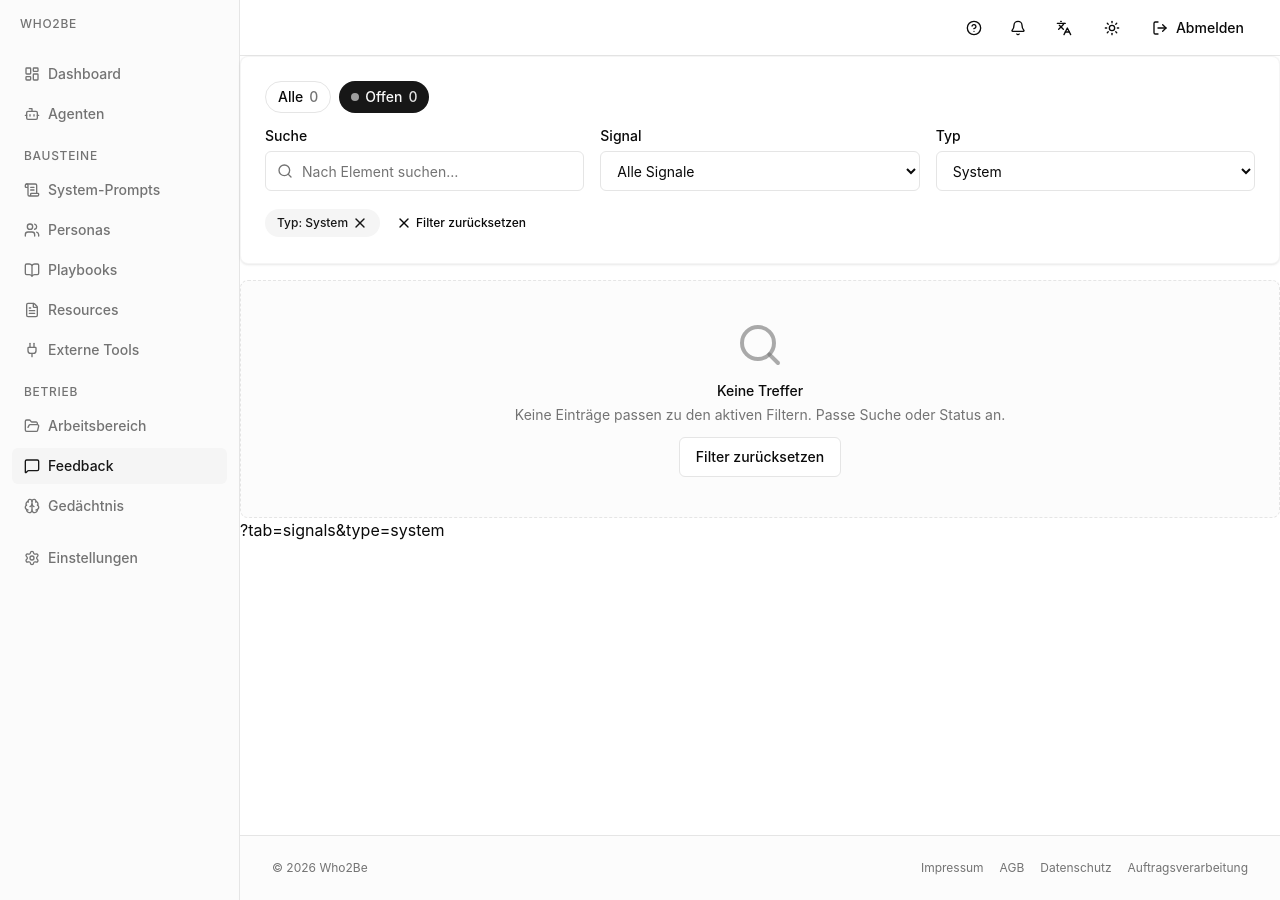
Scenario: FeedbackInbox › setzt im gefilterten Leerzustand alle Filter zurück
Expected: the text "Keine Treffer" is shown, [717,382,803,399]
Click the button "Filter zurücksetzen" below "Keine Treffer": (760, 457) [679,437,841,477]
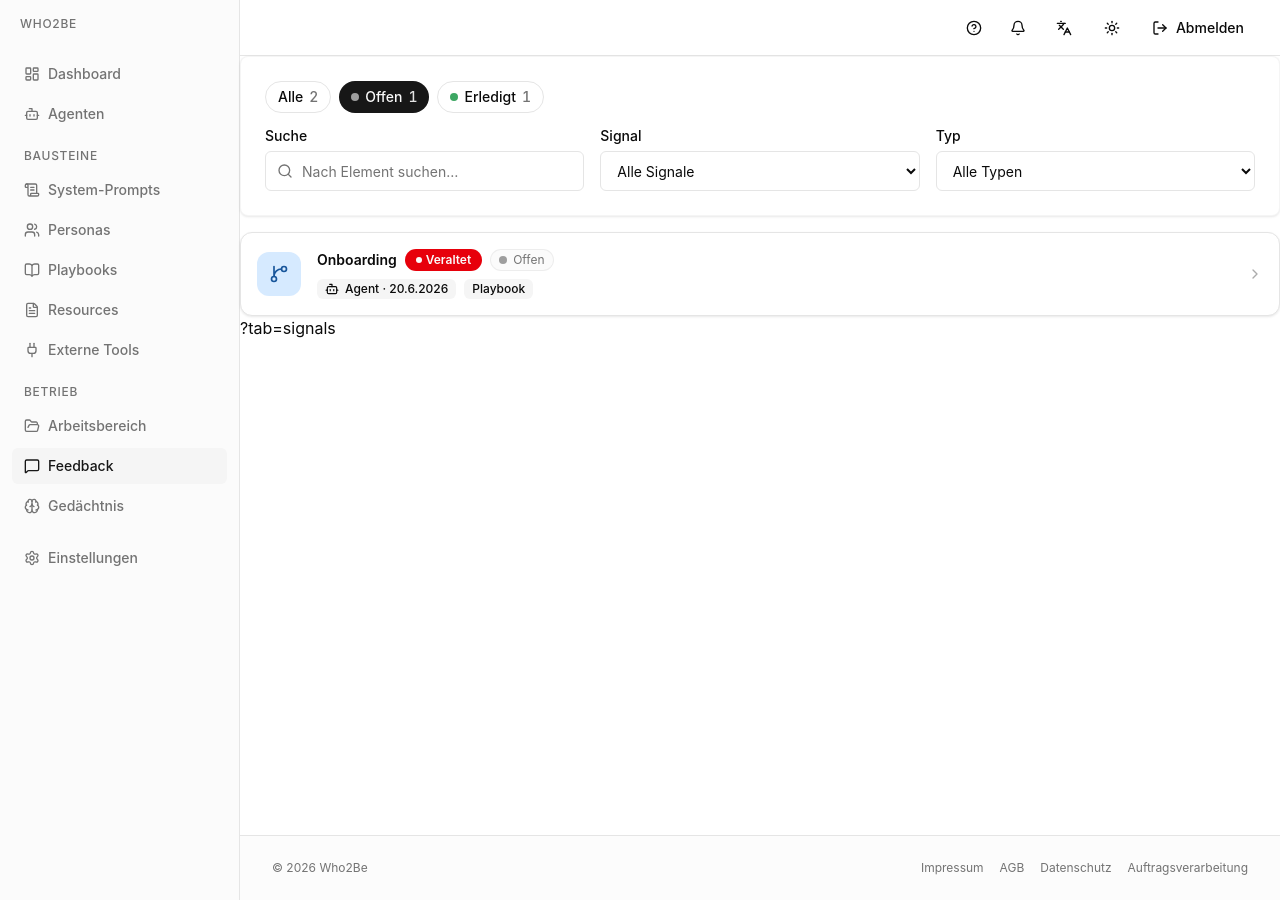
Expected: the link "Onboarding" is shown, [317,250,397,270]
Expected: the text with test id "location" reads "?tab=signals", [240,318,336,338]
